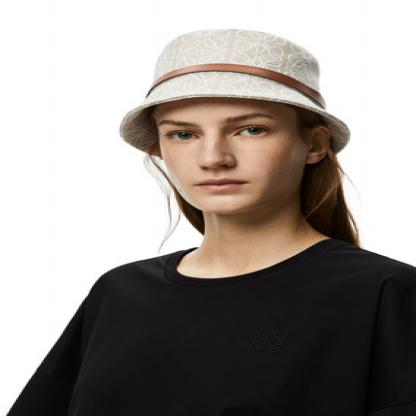hat: (120, 26, 353, 162)
